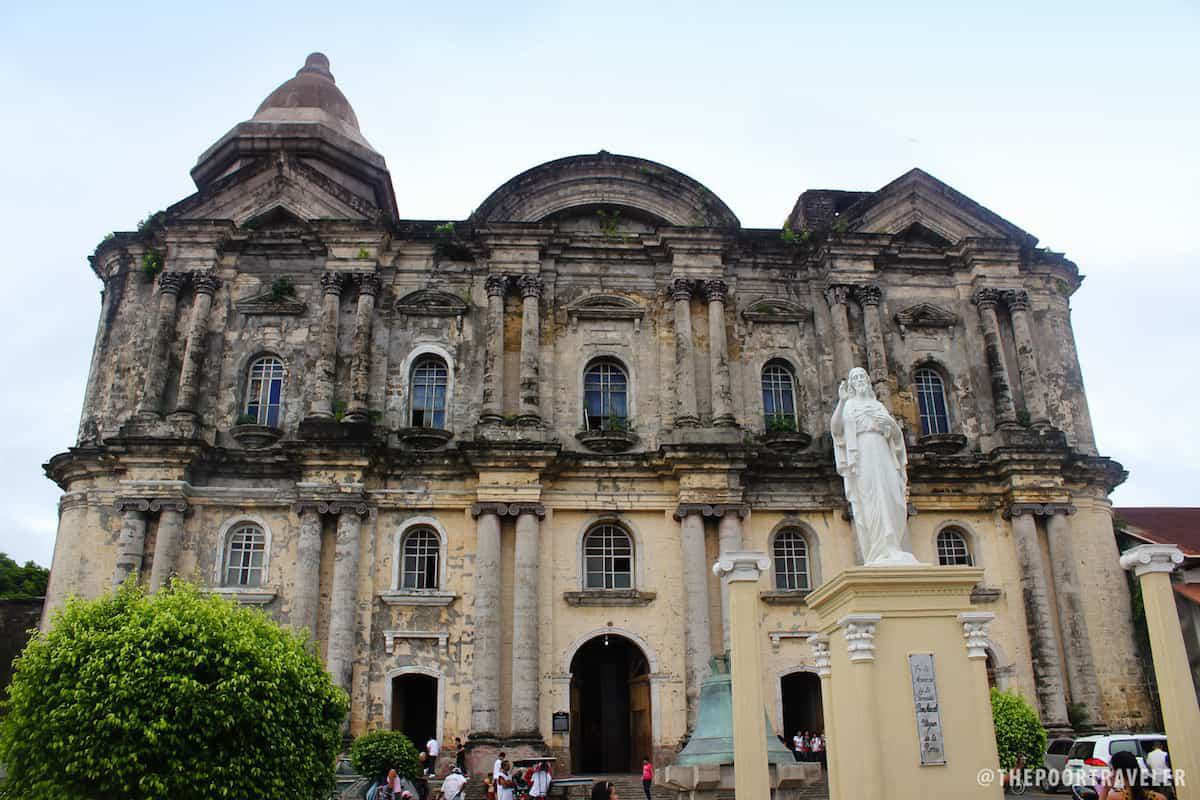taal_basilica_church_taal_batangas: (39, 43, 1150, 761)
